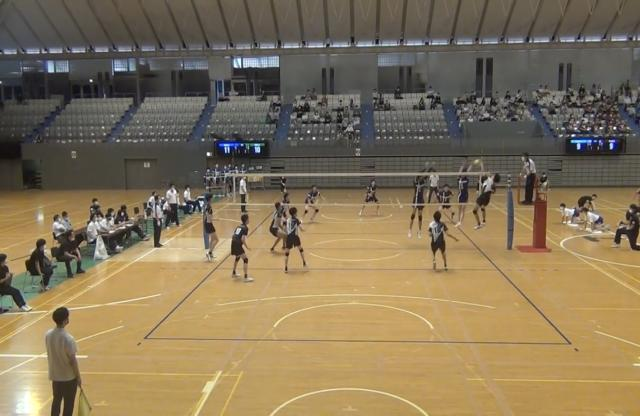spike: (469, 160, 502, 233)
